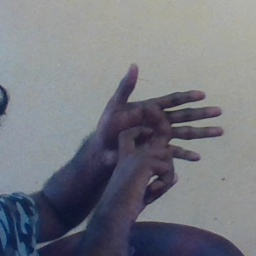R: (79, 60, 228, 203)
